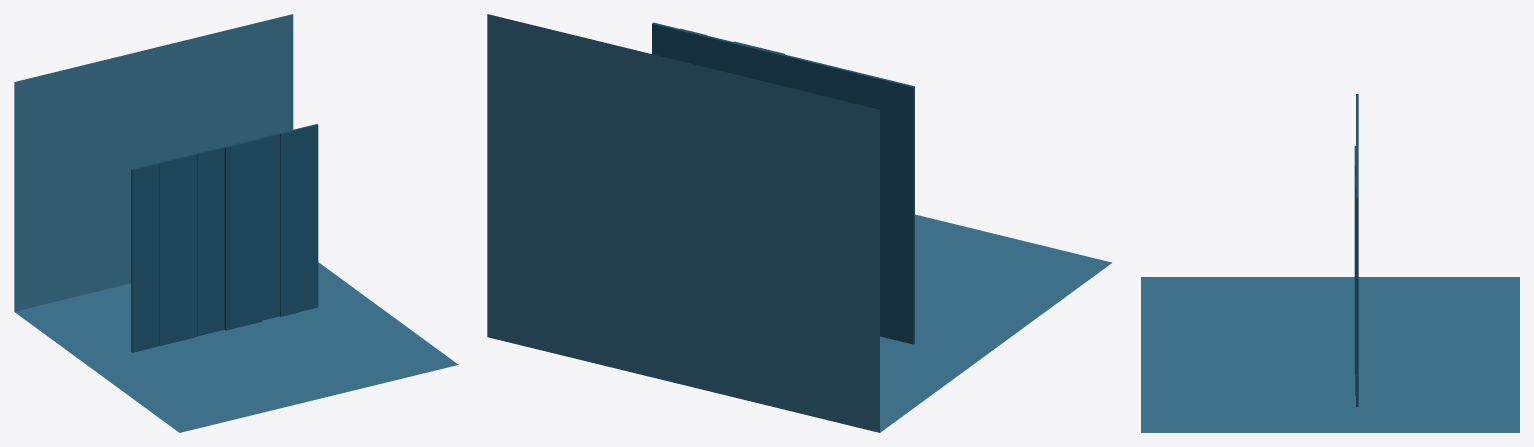
Rendered from axiom-main-banner.glb.
3 renders of one model, left to right at view 1: azimuth 30°, elevation 25°; view 2: azimuth 150°, elevation 25°; view 3: azimuth 270°, elevation 25°, orthographic. The views are drawn at different scales.
Visible parts, largest first — view 1: Cube, Plane; view 2: Cube, Plane; view 3: Cube, Plane.
Part boxes in pixels (left/top/right/bottom): Cube: left=14, top=14, right=458, bottom=432; Plane: left=131, top=124, right=318, bottom=352; Cube: left=487, top=14, right=1111, bottom=432; Plane: left=652, top=22, right=914, bottom=344; Cube: left=1141, top=277, right=1519, bottom=432; Plane: left=1354, top=94, right=1358, bottom=406.
Bounding box in the file's own units: 8.99 × 7.17 × 9.23.
